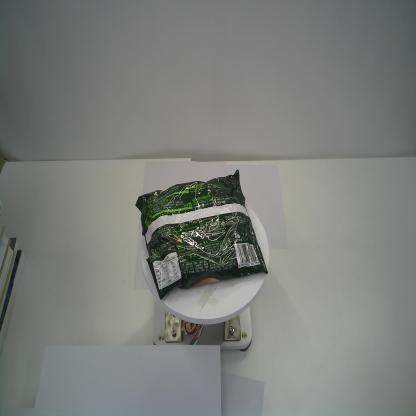Instant Noodles: (134, 166, 268, 304)
